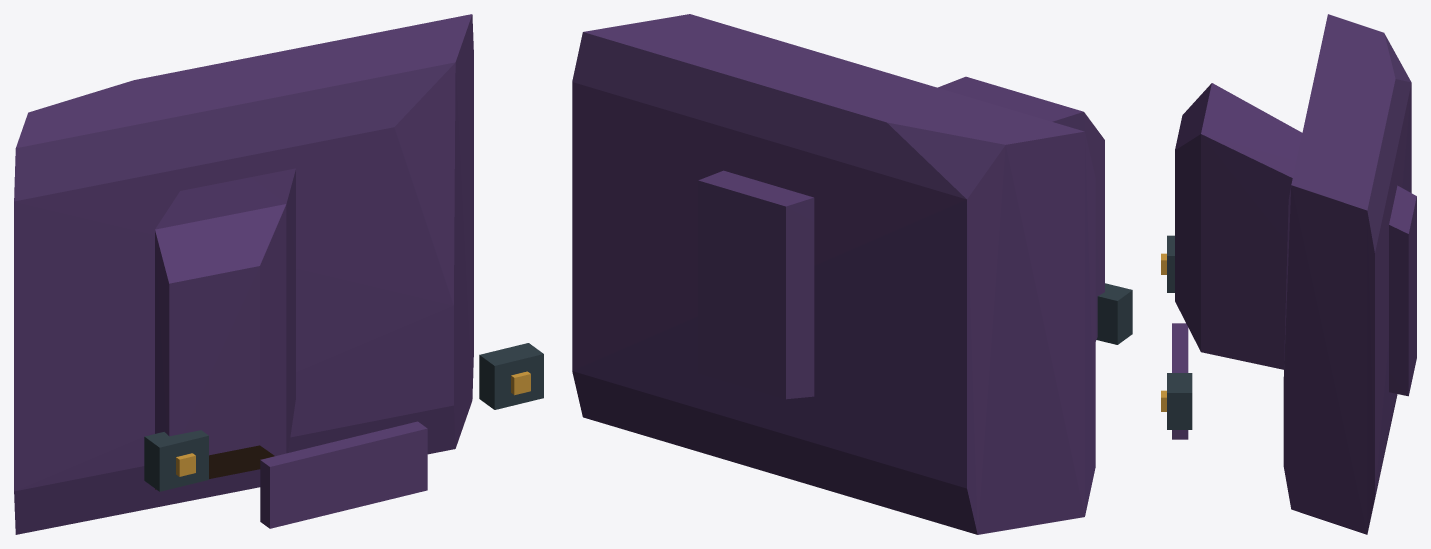
The model's file is tool-bench-lilac.glb.
3 renders of one model, left to right at view 1: azimuth 30°, elevation 25°; view 2: azimuth 150°, elevation 25°; view 3: azimuth 270°, elevation 25°, orthographic. The views are drawn at different scales.
Parts seen in each view (by area): view 1: tool-bench-lilac; view 2: tool-bench-lilac; view 3: tool-bench-lilac.
Boxes of the visible parts, x1,y1,x2,y2 form: tool-bench-lilac: [14, 14, 543, 534]; tool-bench-lilac: [572, 14, 1132, 534]; tool-bench-lilac: [1161, 14, 1416, 534].
Bounding box in the file's own units: 1.4 × 1.05 × 0.7503.
